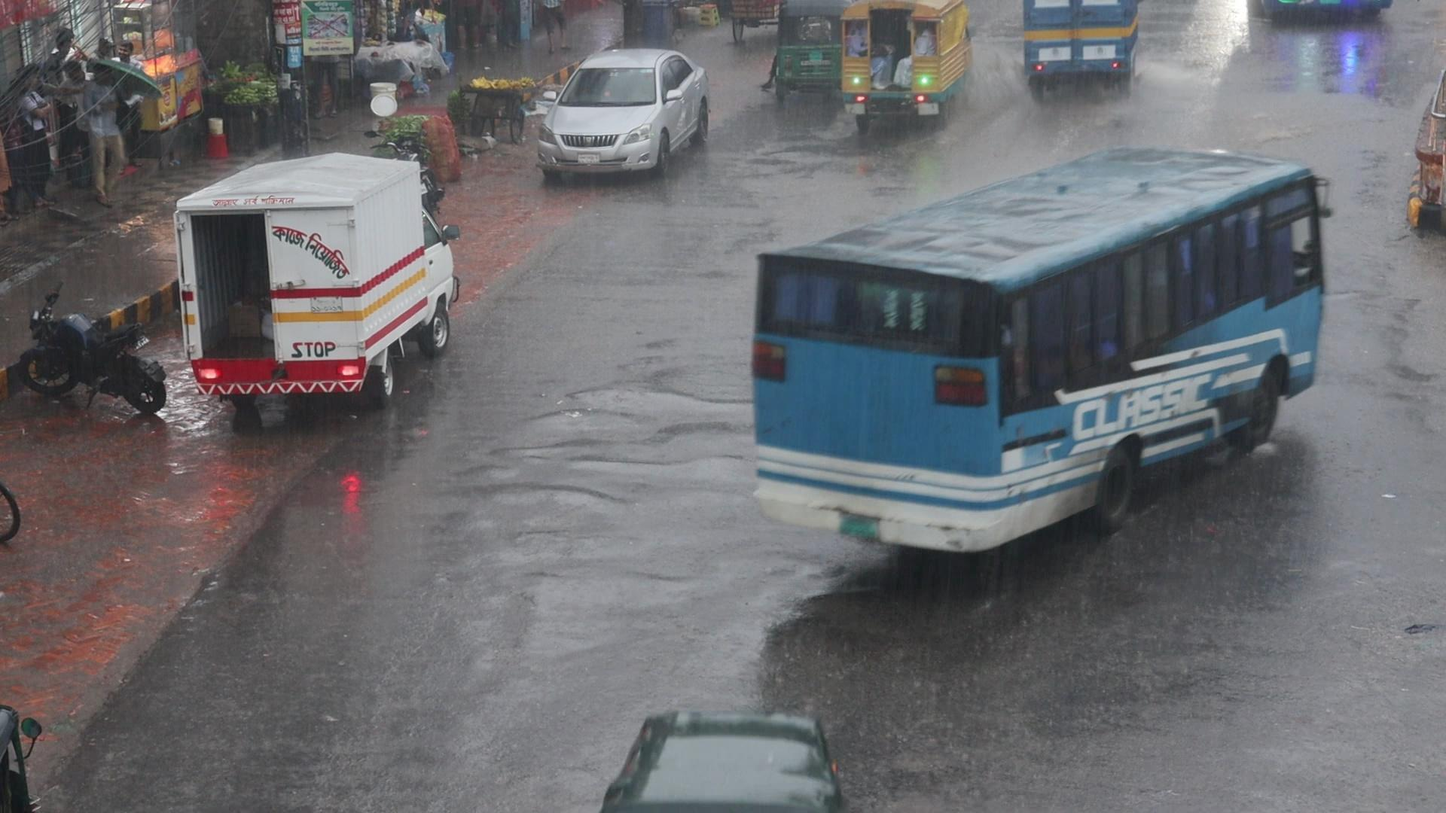Bus: (742, 136, 1338, 559)
Truck: (837, 0, 976, 132)
